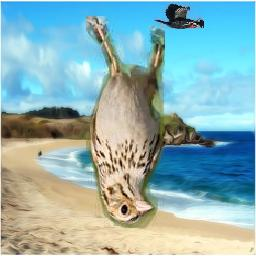Sparrow: (87, 16, 166, 228)
Woodpecker: (154, 3, 205, 29)
